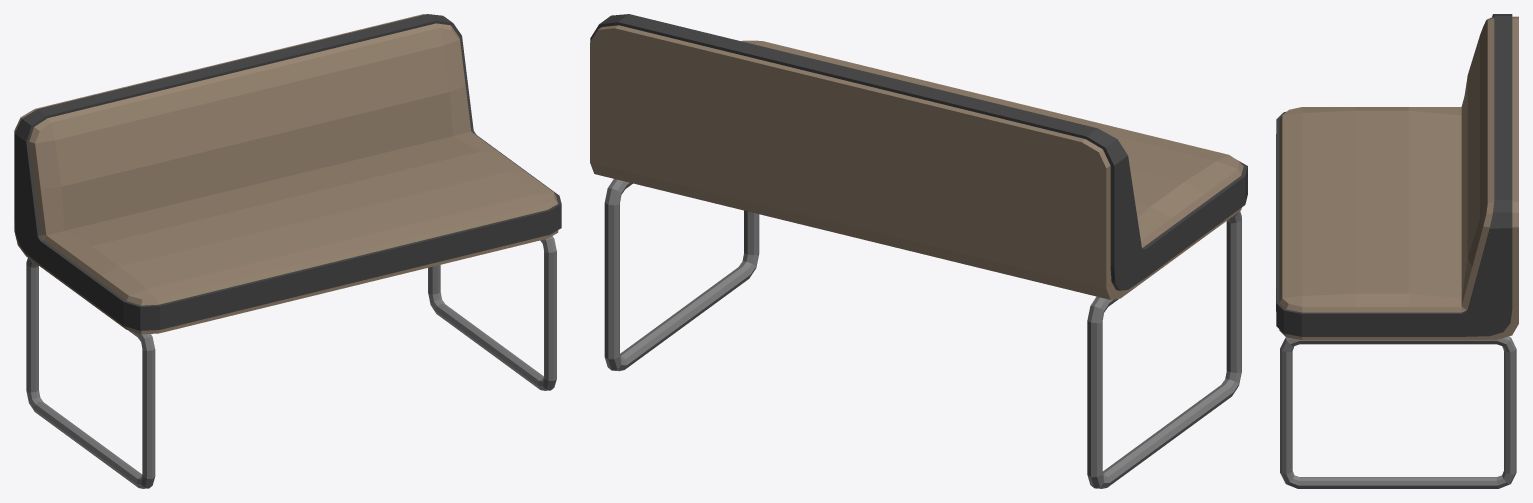
Rendered from Int_Sofa01.fbx.
3 renders of one model, left to right at view 1: azimuth 30°, elevation 25°; view 2: azimuth 150°, elevation 25°; view 3: azimuth 270°, elevation 25°, orthographic. The views are drawn at different scales.
Parts seen in each view (by area): view 1: Int_Sofa01; view 2: Int_Sofa01; view 3: Int_Sofa01.
Boxes of the visible parts, box(x1,y1,x2,y2) form: Int_Sofa01: box(14, 14, 561, 488); Int_Sofa01: box(590, 14, 1247, 488); Int_Sofa01: box(1276, 14, 1518, 488).
Size of what is drawn, in the model's own units: 136 by 68.21 by 88.8.
